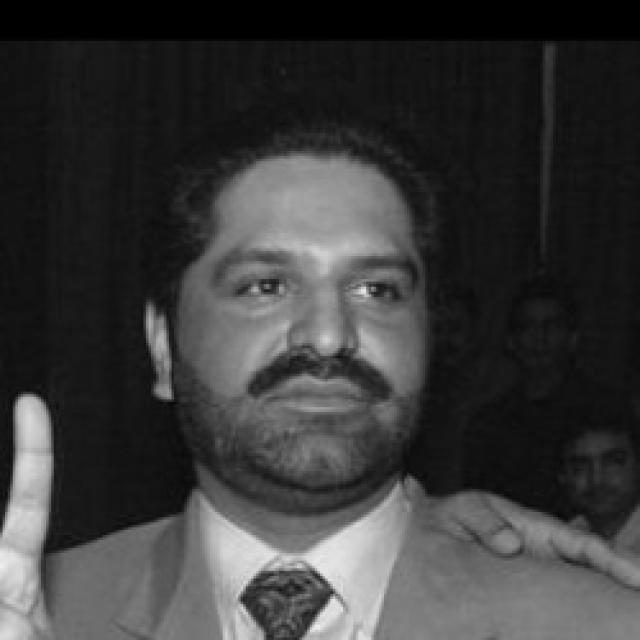real: (158, 137, 443, 498), (216, 237, 409, 315)
